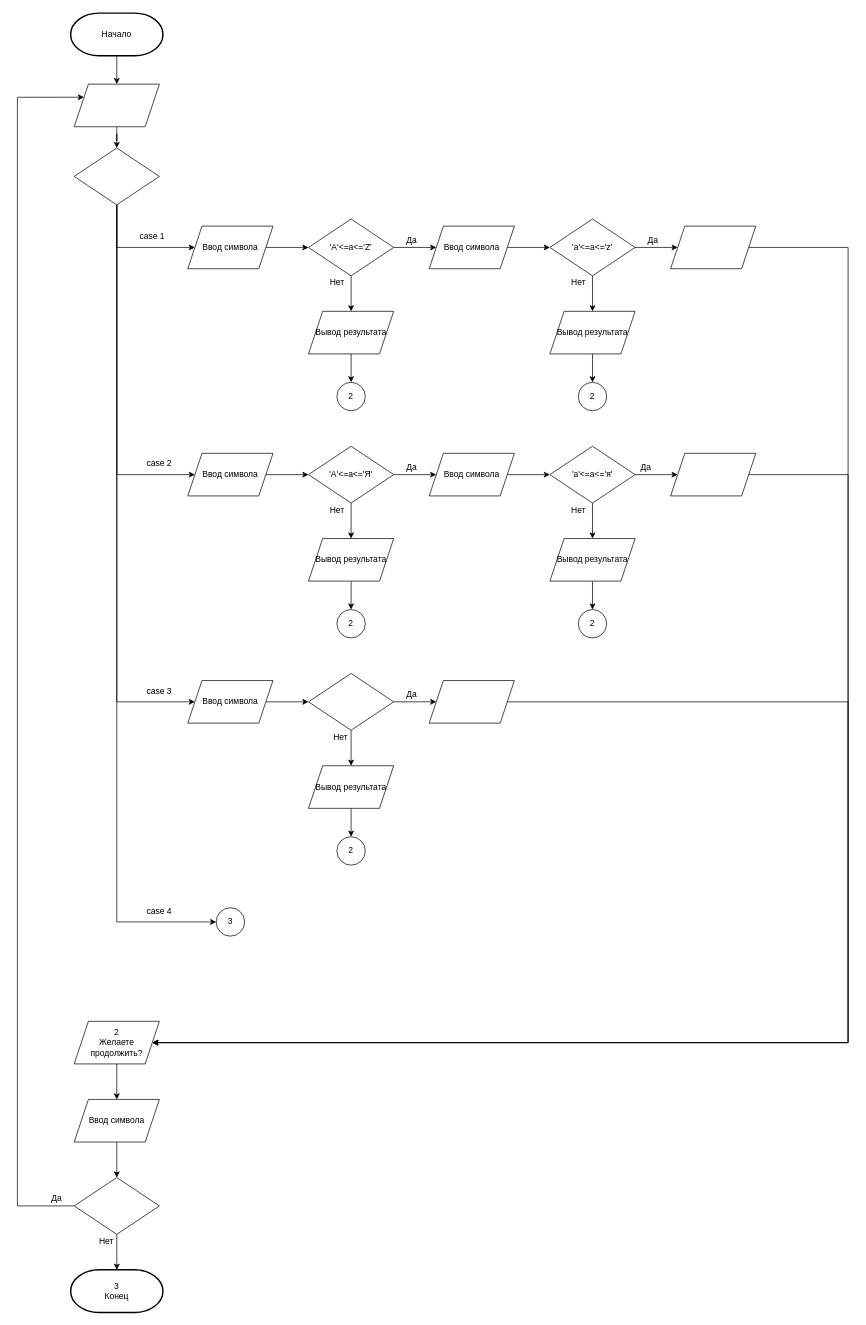
The diagram is 866 pixels wide and 1325 high, and some of its shapes have lost their labels. Here are the shapes that lost their labels. From the top down, the box of each, then its label:
(73, 83, 159, 127): 1 Ввод символа
(73, 147, 159, 205): k = 1...4
(670, 225, 756, 269): Вызов функции 1
(670, 453, 756, 496): Вызов функции 2
(308, 673, 394, 730): 0<=a<=9
(428, 680, 514, 723): Вызов функции 3
(73, 1177, 159, 1234): число = 1
